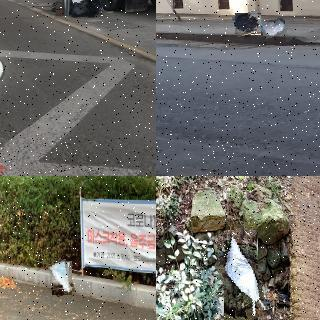Garbage: (217, 228, 264, 320), (50, 260, 74, 296), (234, 12, 262, 37), (263, 19, 286, 37), (70, 3, 95, 17), (84, 0, 103, 15), (257, 24, 267, 35), (72, 0, 86, 3)
